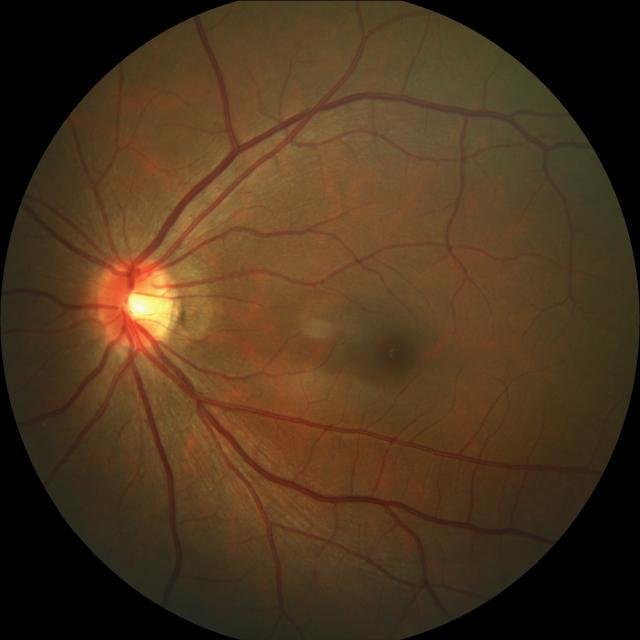OC: (127, 292, 157, 321)
OD: (96, 256, 176, 349)
